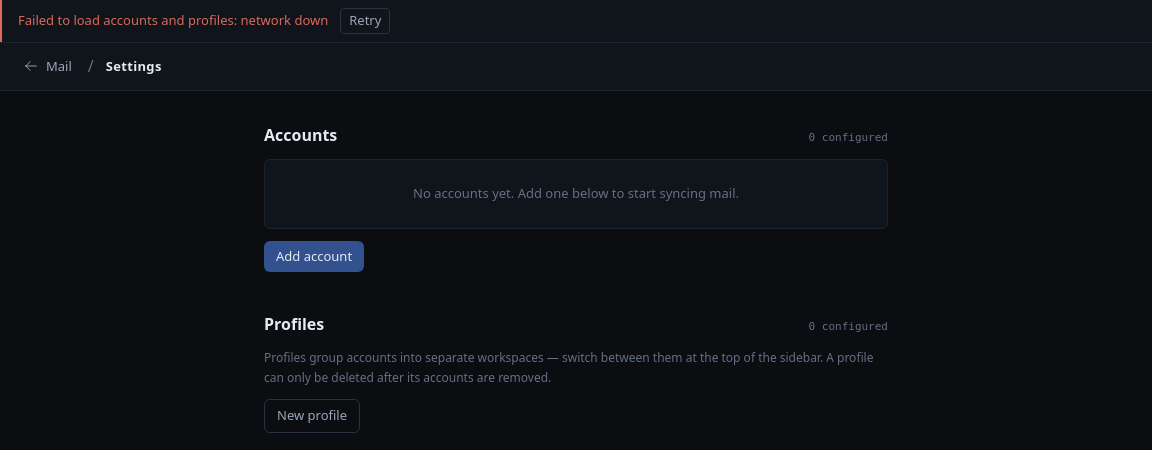
Test case: App bootstrap runs on every route › surfaces a retryable bootstrap error banner on the settings route
Expected: the text "Failed to load accounts and profiles: network down" is shown, [18,11,328,30]
Click the button "Retry": click(365, 21) [340,8,390,34]
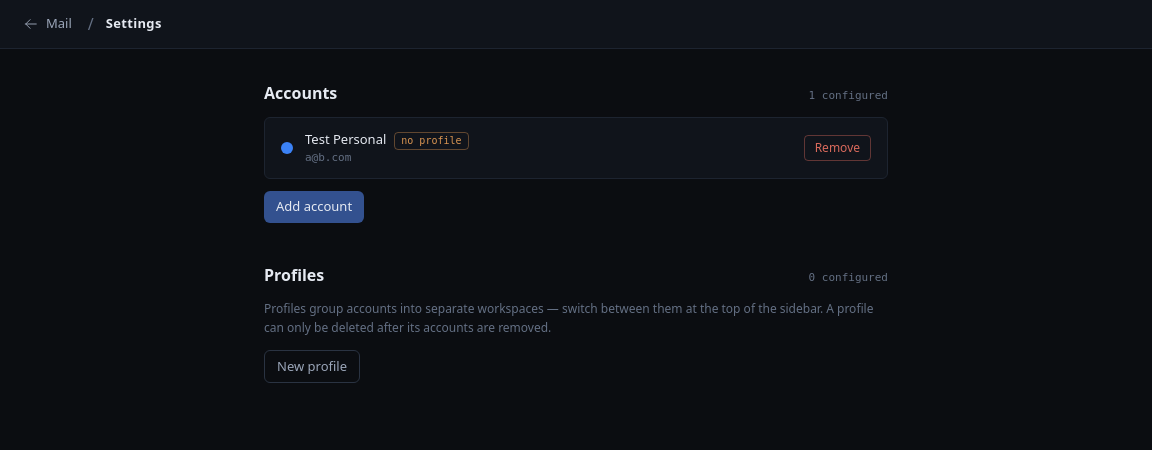
Now the text "Test Personal" is shown, box [305,130,386,149]
